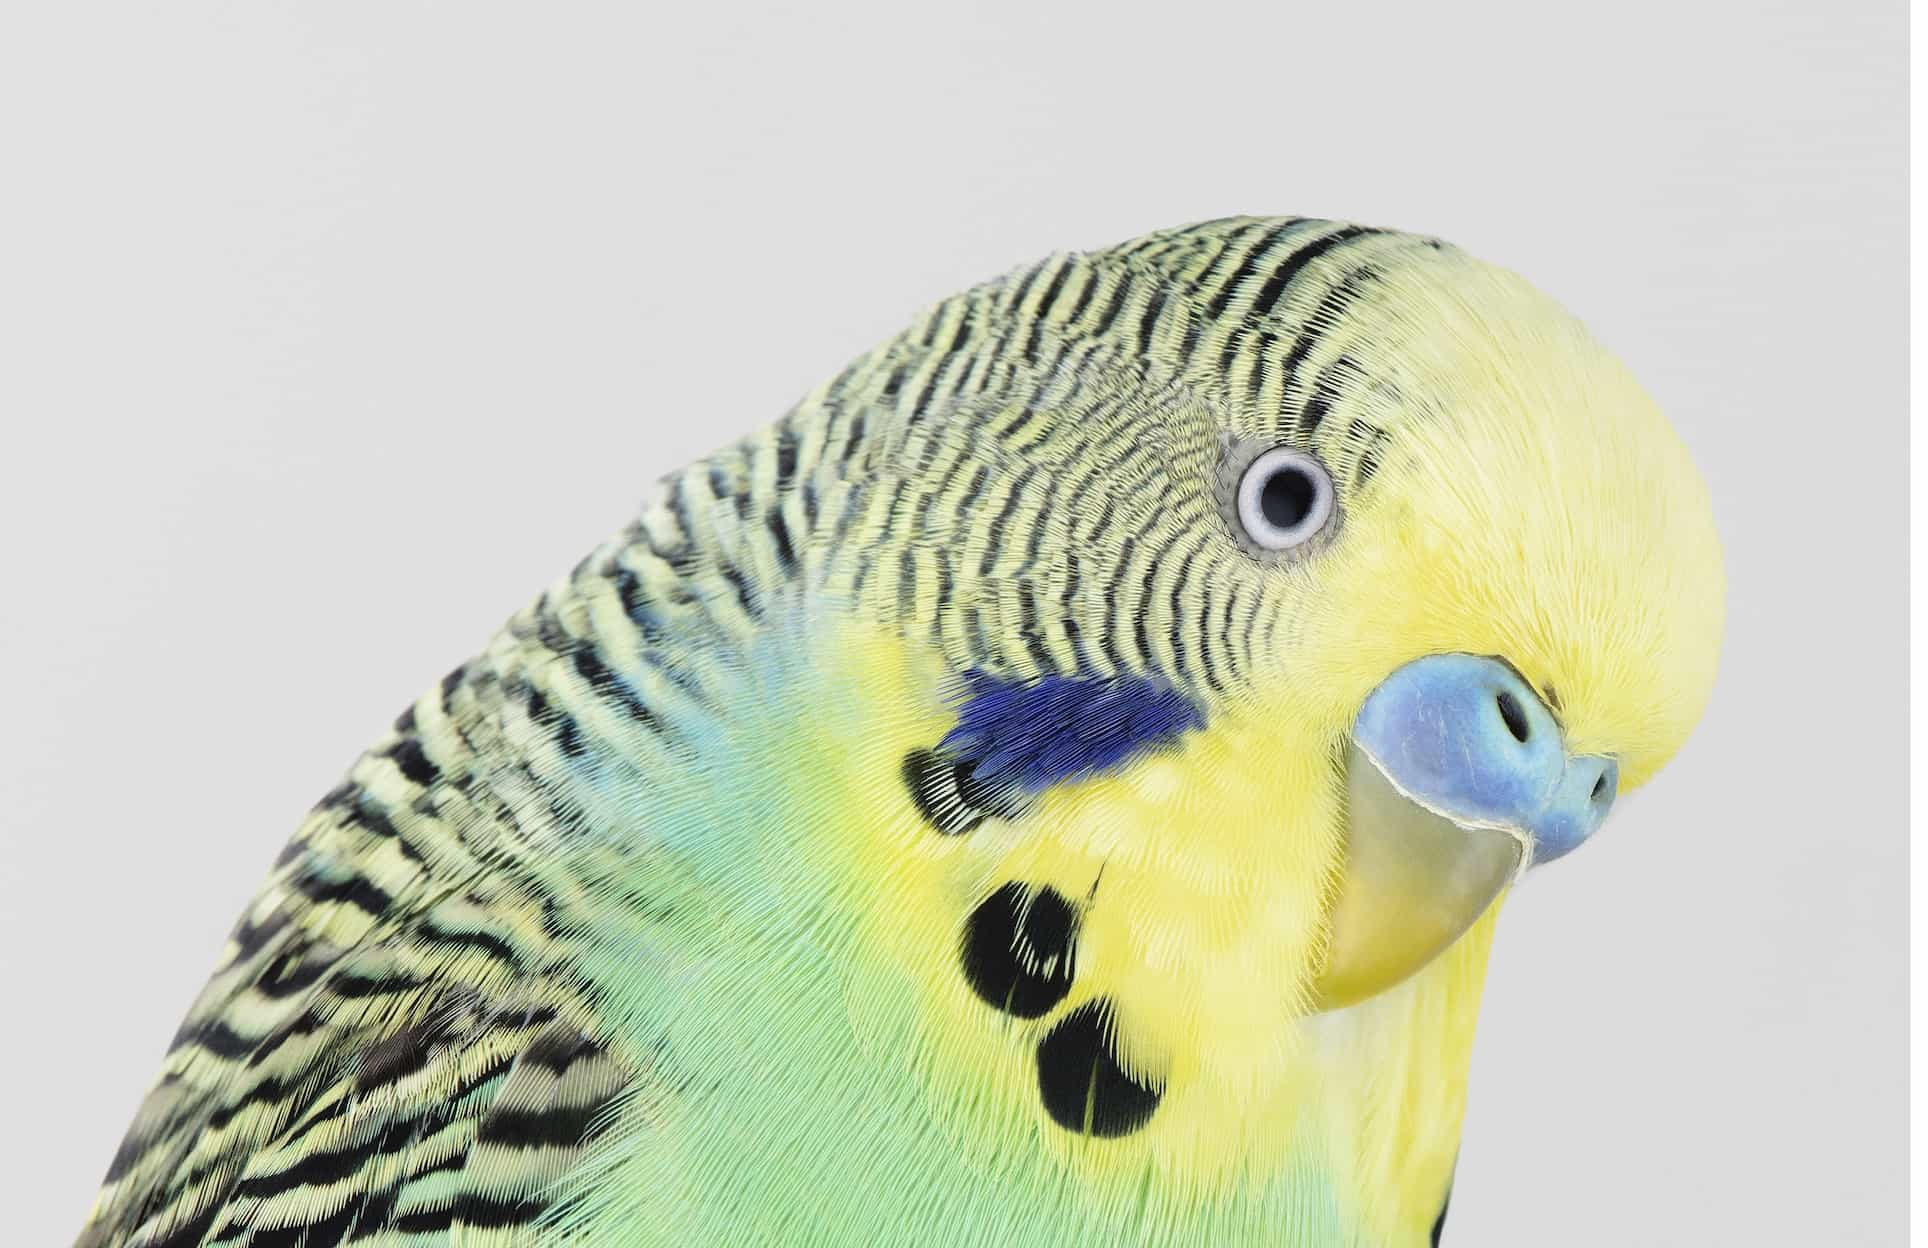budgie: (67, 198, 1752, 1248)
